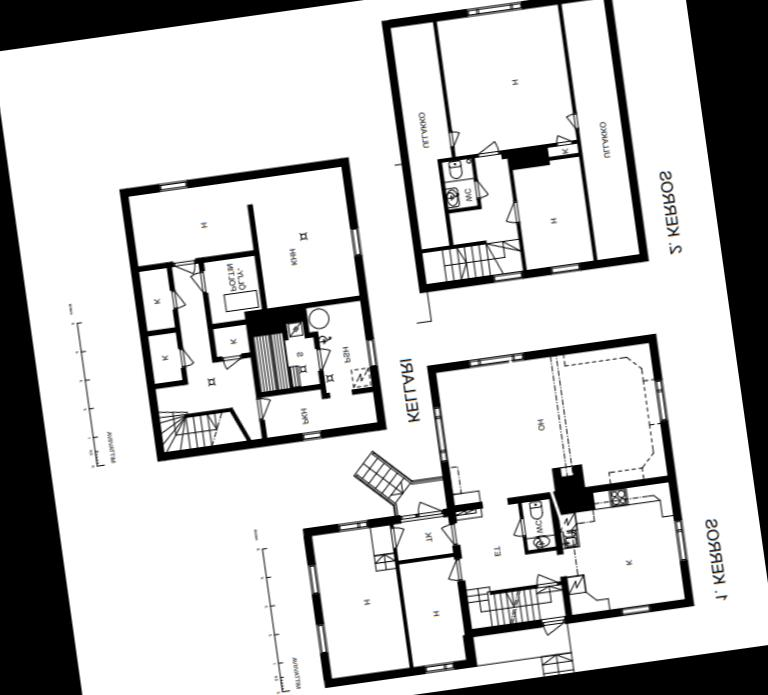door: (169, 254, 200, 280), (436, 521, 461, 552), (470, 138, 502, 162), (440, 557, 468, 584), (313, 344, 338, 374), (413, 498, 444, 521), (384, 522, 408, 551), (532, 567, 561, 590), (174, 344, 197, 372), (500, 200, 524, 226), (250, 393, 273, 420), (538, 614, 566, 636), (172, 288, 190, 316), (219, 352, 244, 372), (509, 516, 529, 539), (562, 111, 582, 134), (446, 128, 465, 152), (190, 269, 208, 294), (474, 179, 492, 200), (552, 130, 574, 146)
window: (430, 402, 454, 467), (465, 348, 526, 371), (650, 375, 672, 426), (301, 558, 324, 602), (671, 516, 691, 564), (346, 221, 368, 264), (311, 615, 332, 659), (418, 657, 460, 677), (152, 173, 190, 195), (612, 601, 654, 620), (332, 516, 374, 534), (362, 334, 382, 370), (296, 424, 326, 446)
